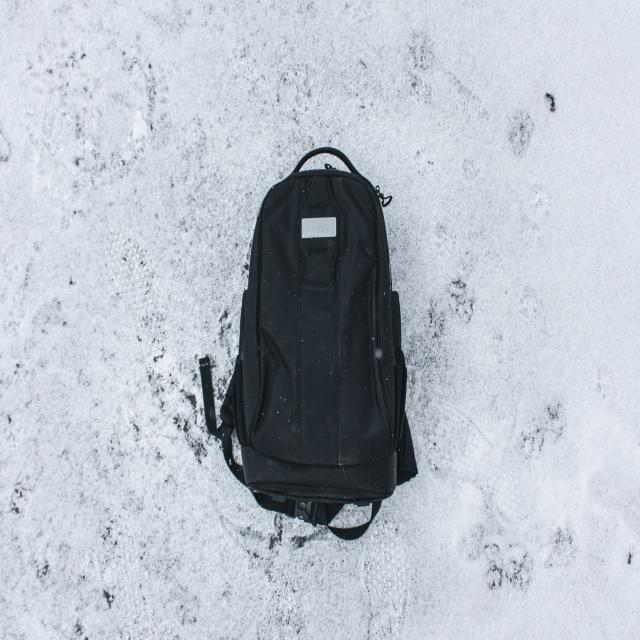backpack: (233, 146, 416, 541)
